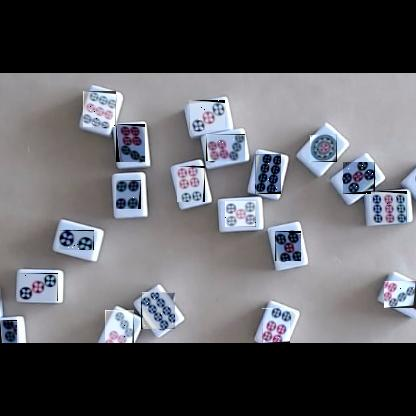1p: (310, 134, 337, 162)
2p: (59, 230, 94, 250)
3p: (18, 273, 58, 301), (189, 100, 225, 130)
4p: (116, 180, 141, 209)
5p: (343, 162, 375, 194), (225, 201, 256, 227), (275, 231, 301, 261), (0, 320, 17, 343)
6p: (177, 166, 205, 202), (262, 308, 290, 343)
7p: (116, 124, 145, 162), (206, 134, 245, 161), (105, 310, 134, 343), (384, 281, 416, 308)
8p: (141, 292, 175, 329), (255, 154, 281, 194)
9p: (83, 91, 116, 127), (371, 191, 407, 223)
